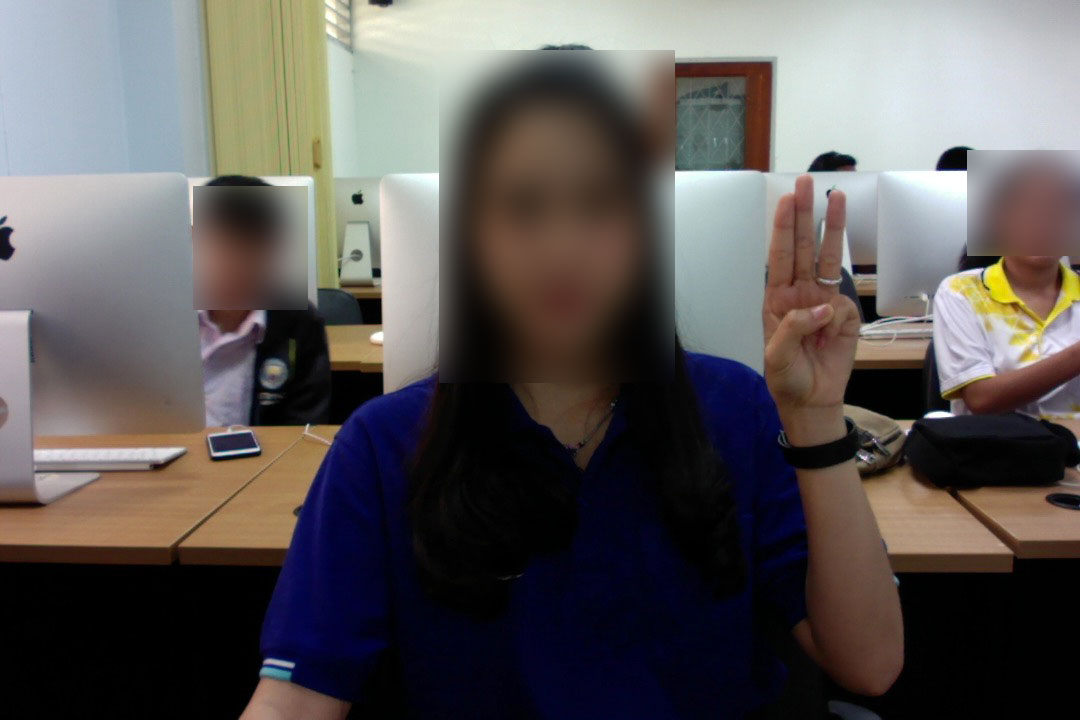wor: (750, 171, 896, 427)
